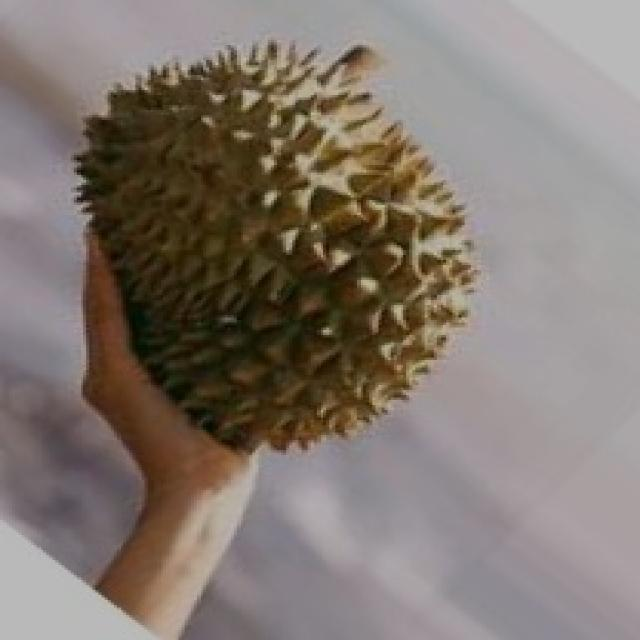fruit: (40, 0, 412, 518)
